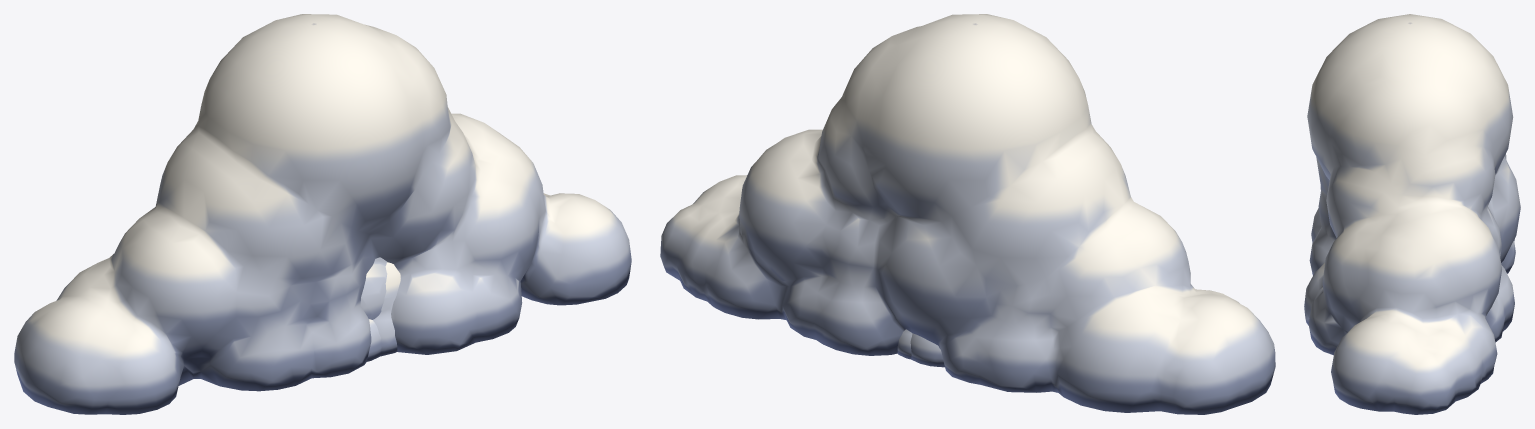
File: Clouds.fbx
3 renders of one model, left to right at view 1: azimuth 30°, elevation 25°; view 2: azimuth 150°, elevation 25°; view 3: azimuth 270°, elevation 25°, orthographic. The views are drawn at different scales.
Visible parts, largest first — view 1: Cloud_Bank, Cloud_DeckA, Cloud_Tower; view 2: Cloud_Bank, Cloud_DeckC; view 3: Cloud_Bank.
Part boxes in pixels (bbox=[...]): Cloud_Bank: bbox=[14, 14, 631, 414]; Cloud_DeckA: bbox=[373, 262, 400, 356]; Cloud_Tower: bbox=[360, 257, 387, 319]; Cloud_Bank: bbox=[660, 14, 1275, 414]; Cloud_DeckC: bbox=[910, 333, 944, 367]; Cloud_Bank: bbox=[1304, 14, 1520, 414].
Size of the model in its own units: 669 by 327 by 243.
1 material, 1 textured.
